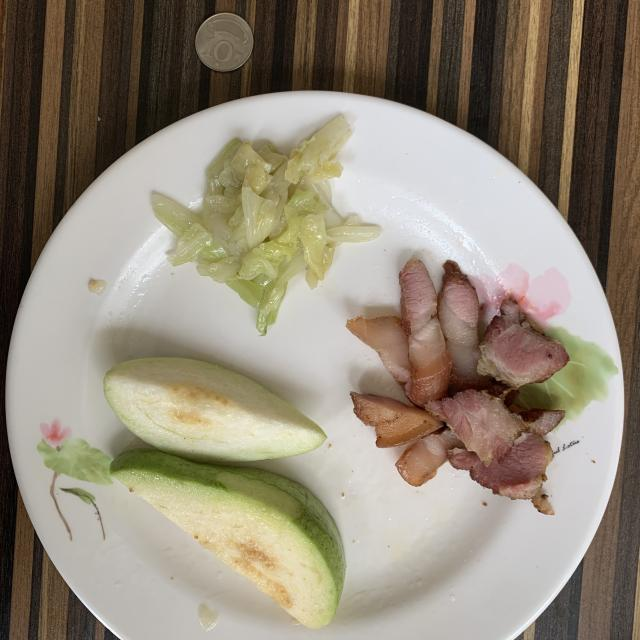cabbage: (152, 116, 379, 334)
coin: (195, 12, 254, 71)
grilled pork: (346, 259, 569, 514)
guava -sliced-: (104, 358, 345, 628)
